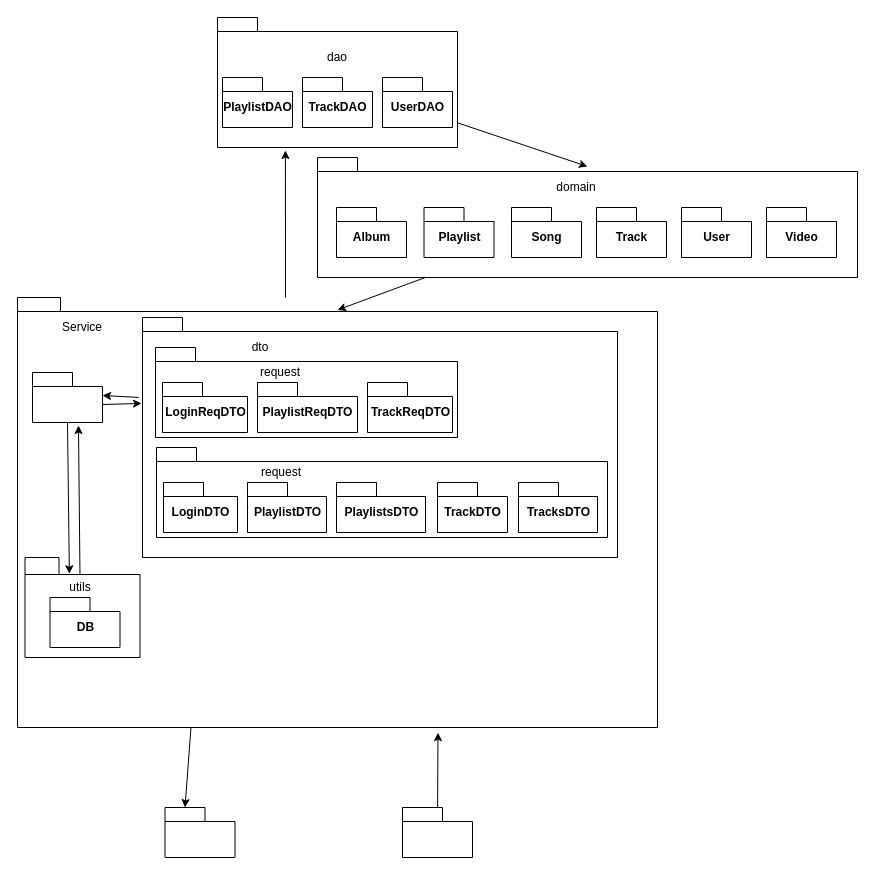
The diagram is 875 pixels wide and 875 high, and some of its shapes have lost their labels. Here are the shapes that lost their labels. From the top down, the centre of each, then its label:
At (67,397): "rest".
At (199,832): "exceptions".
At (437,832): "filters".
